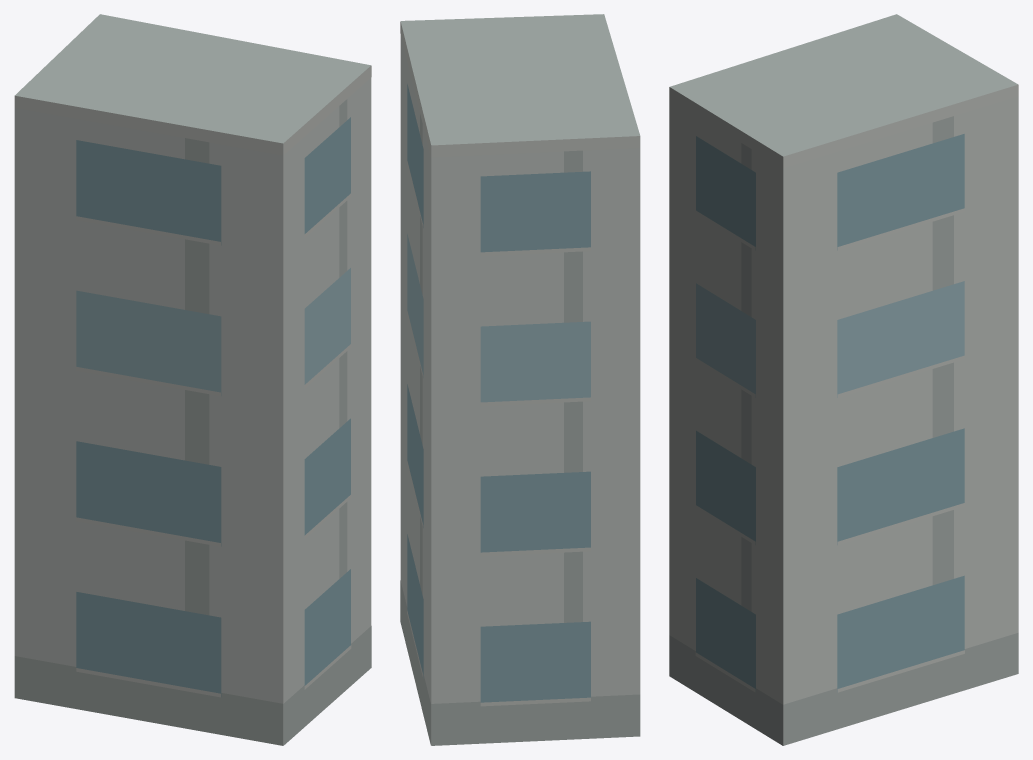
Rendered from survey-upis-32522141.glb.
The picture shows the model from 3 angles, left to right: view 1: azimuth 30°, elevation 25°; view 2: azimuth 150°, elevation 25°; view 3: azimuth 270°, elevation 25°; orthographic projection. The views are drawn at different scales.
Visible parts, largest first — view 1: survey-upis-32522141.tmp; view 2: survey-upis-32522141.tmp; view 3: survey-upis-32522141.tmp.
Boxes of the visible parts, box(x1,y1,x2,y2) form: survey-upis-32522141.tmp: box(14, 14, 371, 745); survey-upis-32522141.tmp: box(400, 14, 640, 745); survey-upis-32522141.tmp: box(669, 14, 1018, 745).
Bounding box in the file's own units: 6.34 × 12.2 × 6.56.
